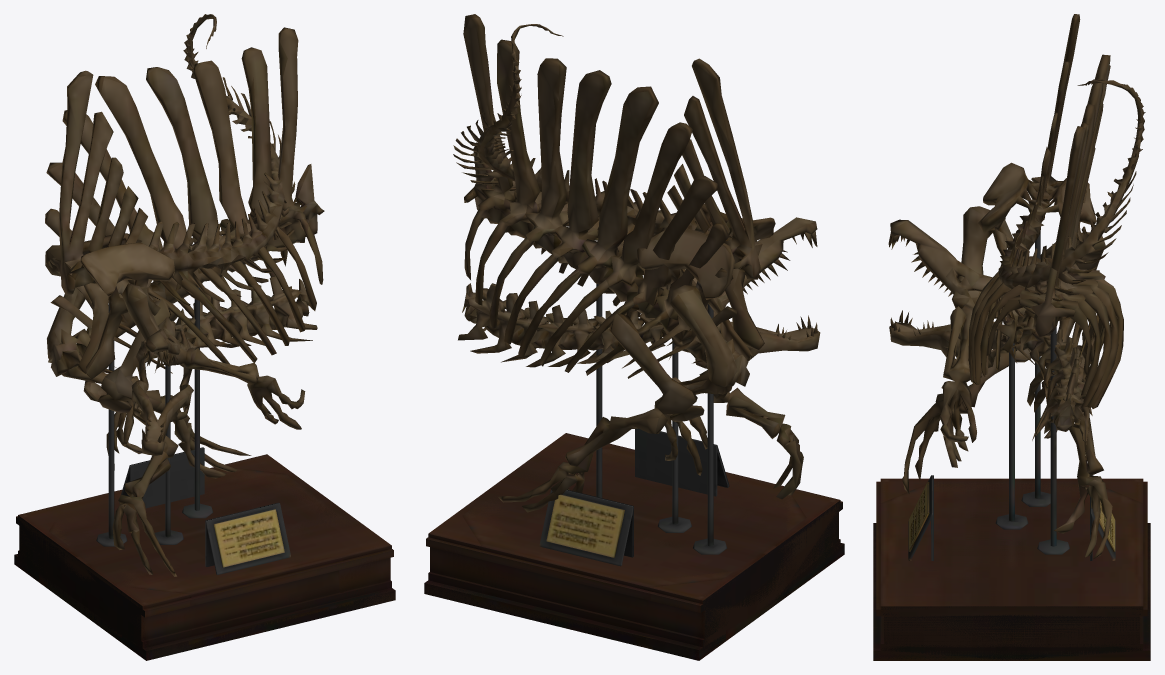
The model's file is fossil-spino.glb.
The picture shows the model from 3 angles, left to right: view 1: azimuth 30°, elevation 25°; view 2: azimuth 150°, elevation 25°; view 3: azimuth 270°, elevation 25°; orthographic projection. The views are drawn at different scales.
Parts seen in each view (by area): view 1: mFossilBaseEnd (×2), mFtrFossilSpinosaurusB, mFtrFossilSpinosaurusC, mFossilBaseMiddle, mFtrFossilSpinosaurusA; view 2: mFtrFossilSpinosaurusB, mFossilBaseEnd (×2), mFossilBaseMiddle, mFtrFossilSpinosaurusC, mFtrFossilSpinosaurusA; view 3: mFossilBaseEnd (×2), mFossilBaseMiddle, mFtrFossilSpinosaurusB, mFtrFossilSpinosaurusC, mFtrFossilSpinosaurusA.
Boxes of the visible parts, box(x1,y1,x2,y2) form: mFossilBaseEnd (×2): box(15, 302, 395, 660); mFtrFossilSpinosaurusB: box(45, 27, 324, 576); mFtrFossilSpinosaurusC: box(45, 14, 305, 470); mFossilBaseMiddle: box(14, 287, 395, 660); mFtrFossilSpinosaurusA: box(131, 275, 317, 455); mFtrFossilSpinosaurusB: box(463, 14, 803, 512); mFossilBaseEnd (×2): box(424, 304, 842, 660); mFossilBaseMiddle: box(424, 284, 844, 660); mFtrFossilSpinosaurusC: box(453, 24, 775, 475); mFtrFossilSpinosaurusA: box(458, 217, 820, 368); mFossilBaseEnd (×2): box(873, 233, 1150, 660); mFossilBaseMiddle: box(873, 327, 1150, 660); mFtrFossilSpinosaurusB: box(902, 54, 1123, 559); mFtrFossilSpinosaurusC: box(939, 14, 1145, 467); mFtrFossilSpinosaurusA: box(888, 219, 1092, 444).
Size of the model in its own units: 20.18 by 39.81 by 18.33.
Materials: 6 (6 with a texture image).
